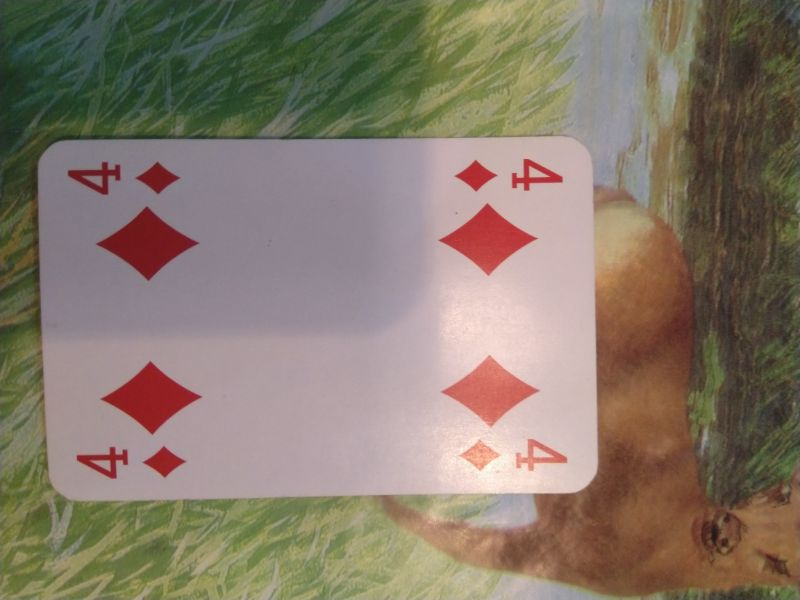4d: (60, 153, 186, 202), (452, 432, 573, 480), (451, 150, 567, 200), (70, 440, 194, 483)
